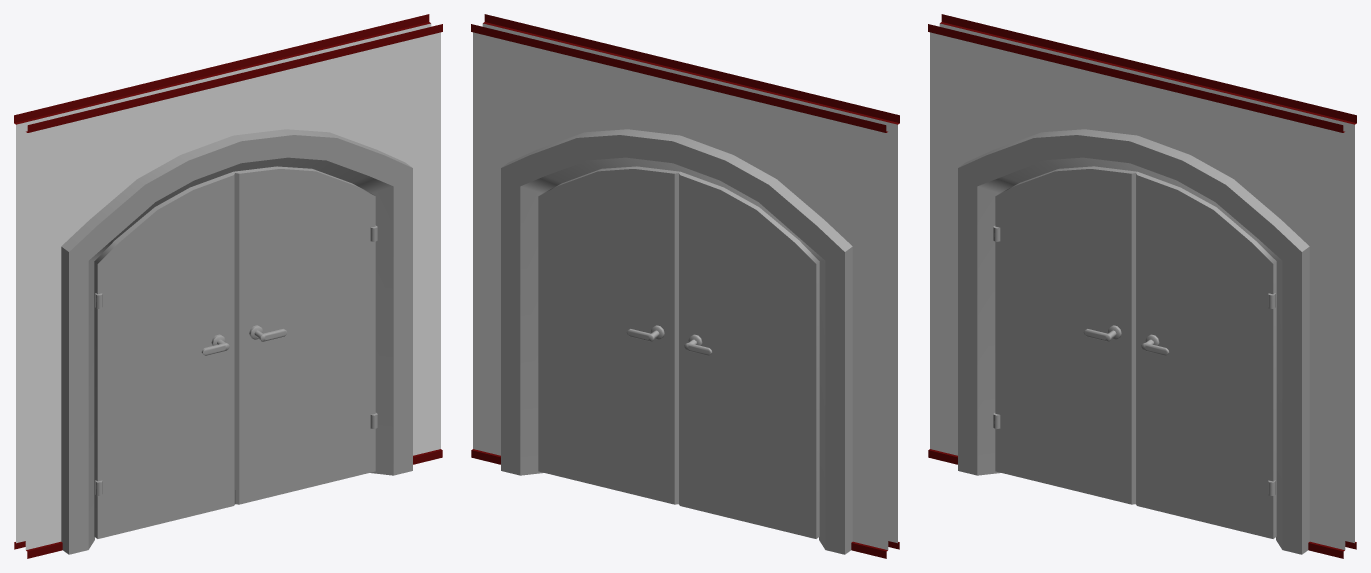
The model's file is Prop_DoubleDoor_01.fbx.
3 renders of one model, left to right at view 1: azimuth 30°, elevation 25°; view 2: azimuth 150°, elevation 25°; view 3: azimuth 330°, elevation 25°, orthographic.
Visible parts, largest first — view 1: Double_Door_Frame, Double_Door_Left, Double_Door_Right; view 2: Double_Door_Frame, Double_Door_Left, Double_Door_Right; view 3: Double_Door_Frame, Double_Door_Right, Double_Door_Left.
Part boxes in pixels (left/top/right/bottom): Double_Door_Frame: left=14, top=14, right=442, bottom=558; Double_Door_Left: left=94, top=171, right=234, bottom=538; Double_Door_Right: left=234, top=166, right=375, bottom=504; Double_Door_Frame: left=471, top=14, right=899, bottom=558; Double_Door_Left: left=679, top=171, right=819, bottom=538; Double_Door_Right: left=538, top=166, right=679, bottom=504; Double_Door_Frame: left=928, top=14, right=1356, bottom=558; Double_Door_Right: left=1136, top=171, right=1276, bottom=538; Double_Door_Left: left=995, top=166, right=1136, bottom=504.
Size of the model in its own units: 3 by 3 by 0.4226.
